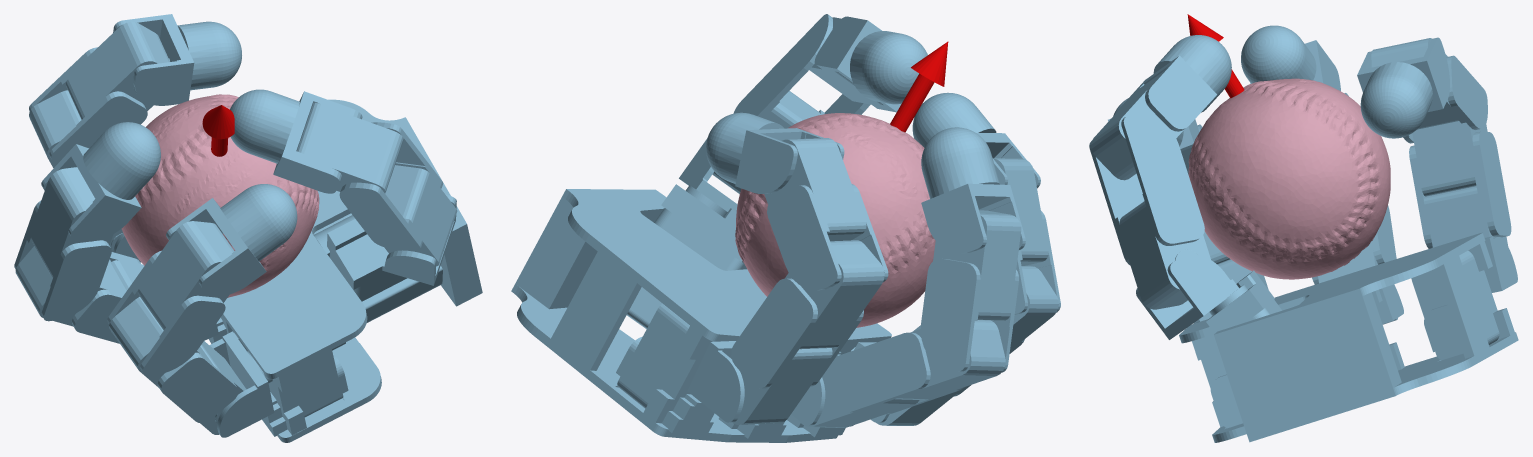
3 views of the same model, side by side, from view 1: azimuth 30°, elevation 25°; view 2: azimuth 150°, elevation 25°; view 3: azimuth 270°, elevation 25° (orthographic). The views are drawn at different scales.
Visible parts, largest first — view 1: world, baseball.stl; view 2: world, baseball.stl; view 3: world, baseball.stl.
Boxes of the visible parts, left/top/right/bottom form: world: left=14, top=14, right=482, bottom=442; baseball.stl: left=121, top=94, right=319, bottom=297; world: left=511, top=14, right=1060, bottom=442; baseball.stl: left=735, top=113, right=935, bottom=327; world: left=1089, top=14, right=1518, bottom=442; baseball.stl: left=1188, top=78, right=1390, bottom=279.
Bounding box in the file's own units: 0.176 × 0.1493 × 0.1542.
